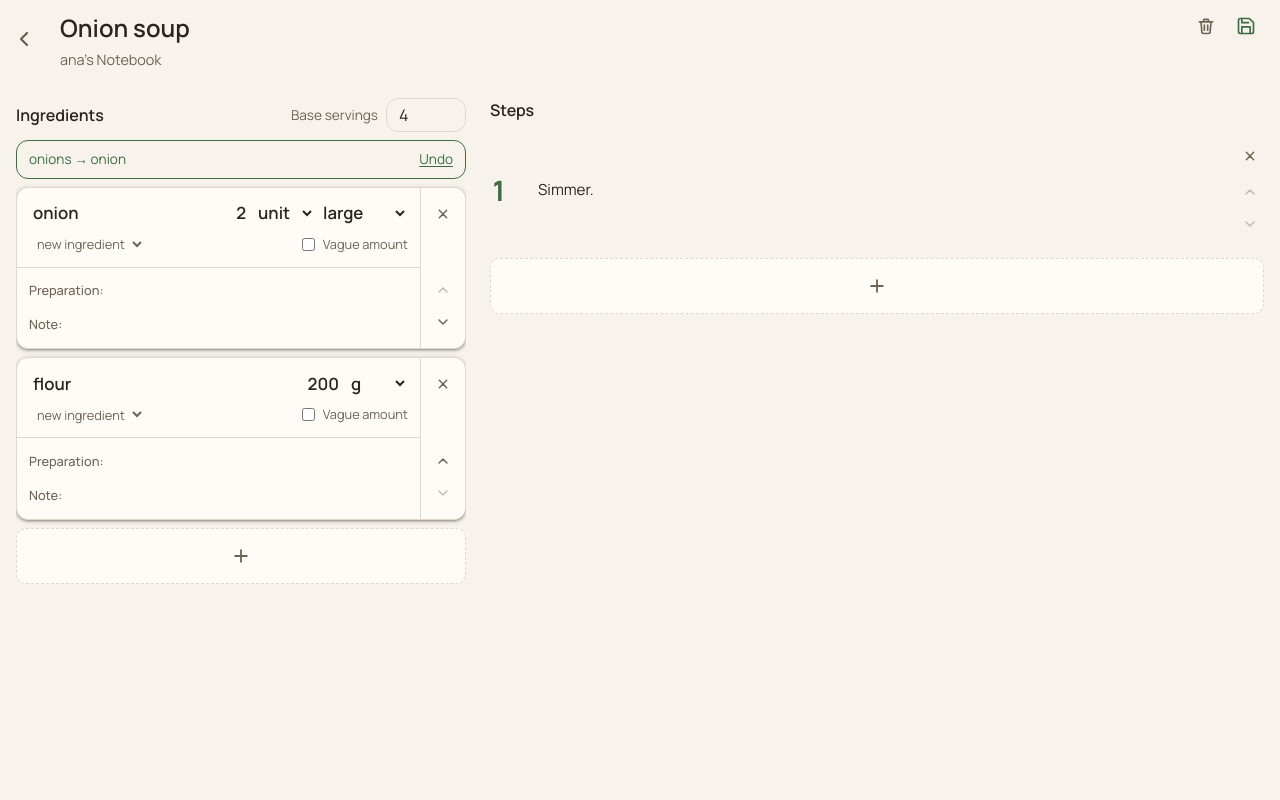
Test: match control (spec 018 US3) › choosing new ingredient clears the match and the change
Select "new ingredient" in the dropdown named "Catalog match" below "onions → onion": (87, 244) [29, 232, 145, 257]
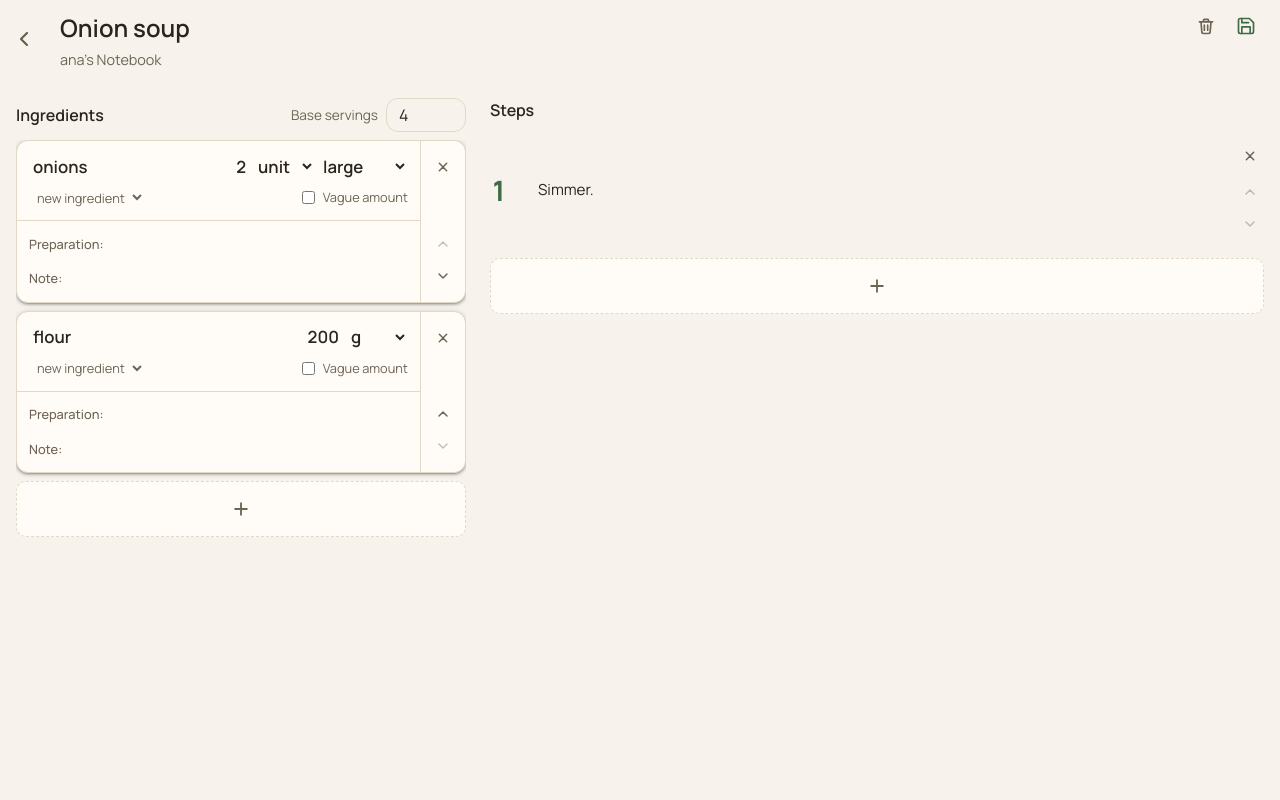
Check: the text "onions → onion" is gone
